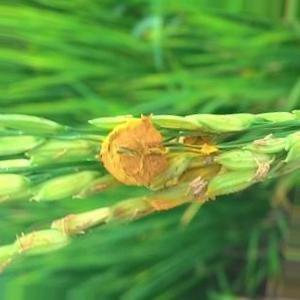Leaf_Scald: (110, 117, 163, 194), (176, 132, 214, 204), (149, 195, 176, 214)
